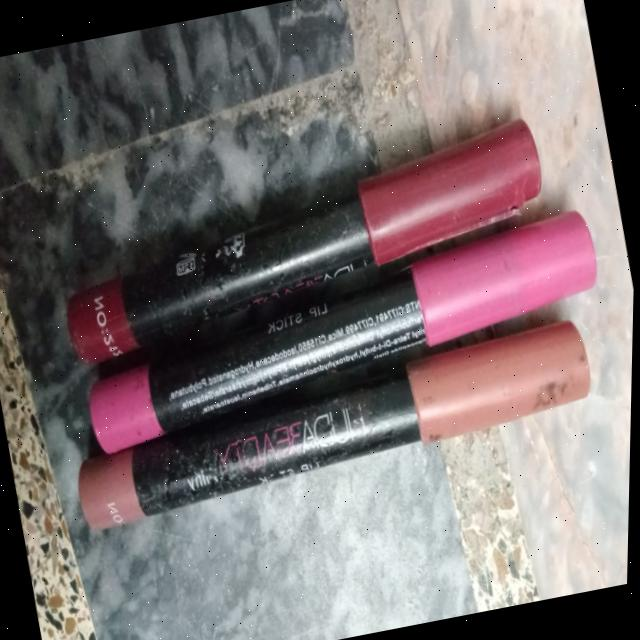lip liner: (0, 27, 640, 561)
